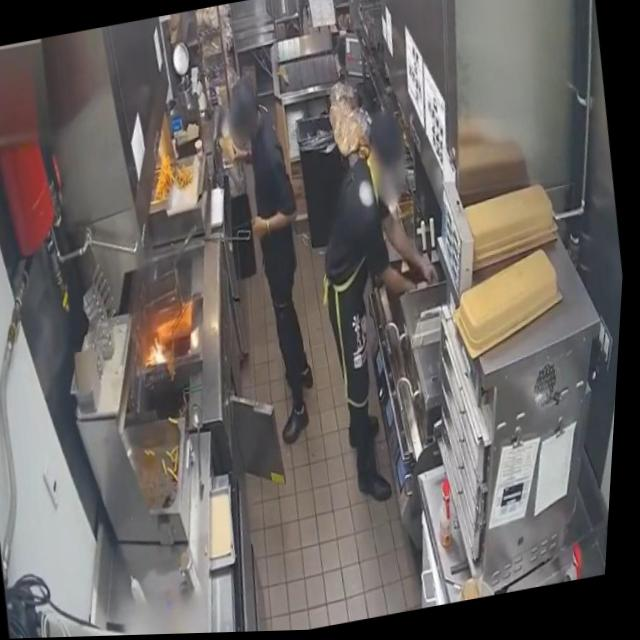fire: (148, 335, 175, 369)
